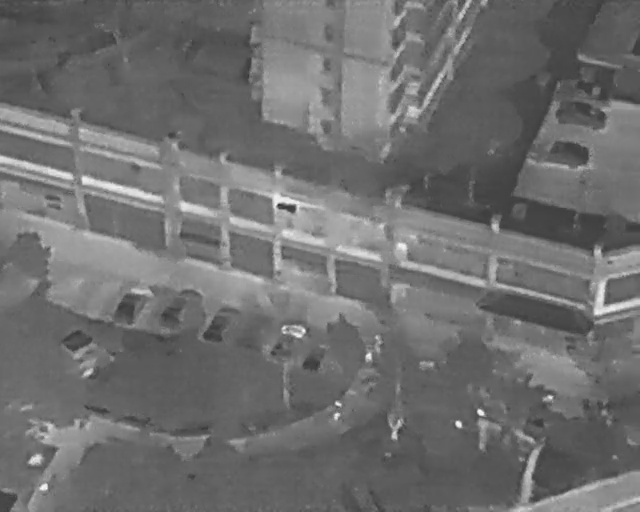Car: (154, 278, 207, 338), (199, 296, 248, 351), (263, 316, 311, 371), (109, 278, 157, 331), (298, 334, 336, 378)
